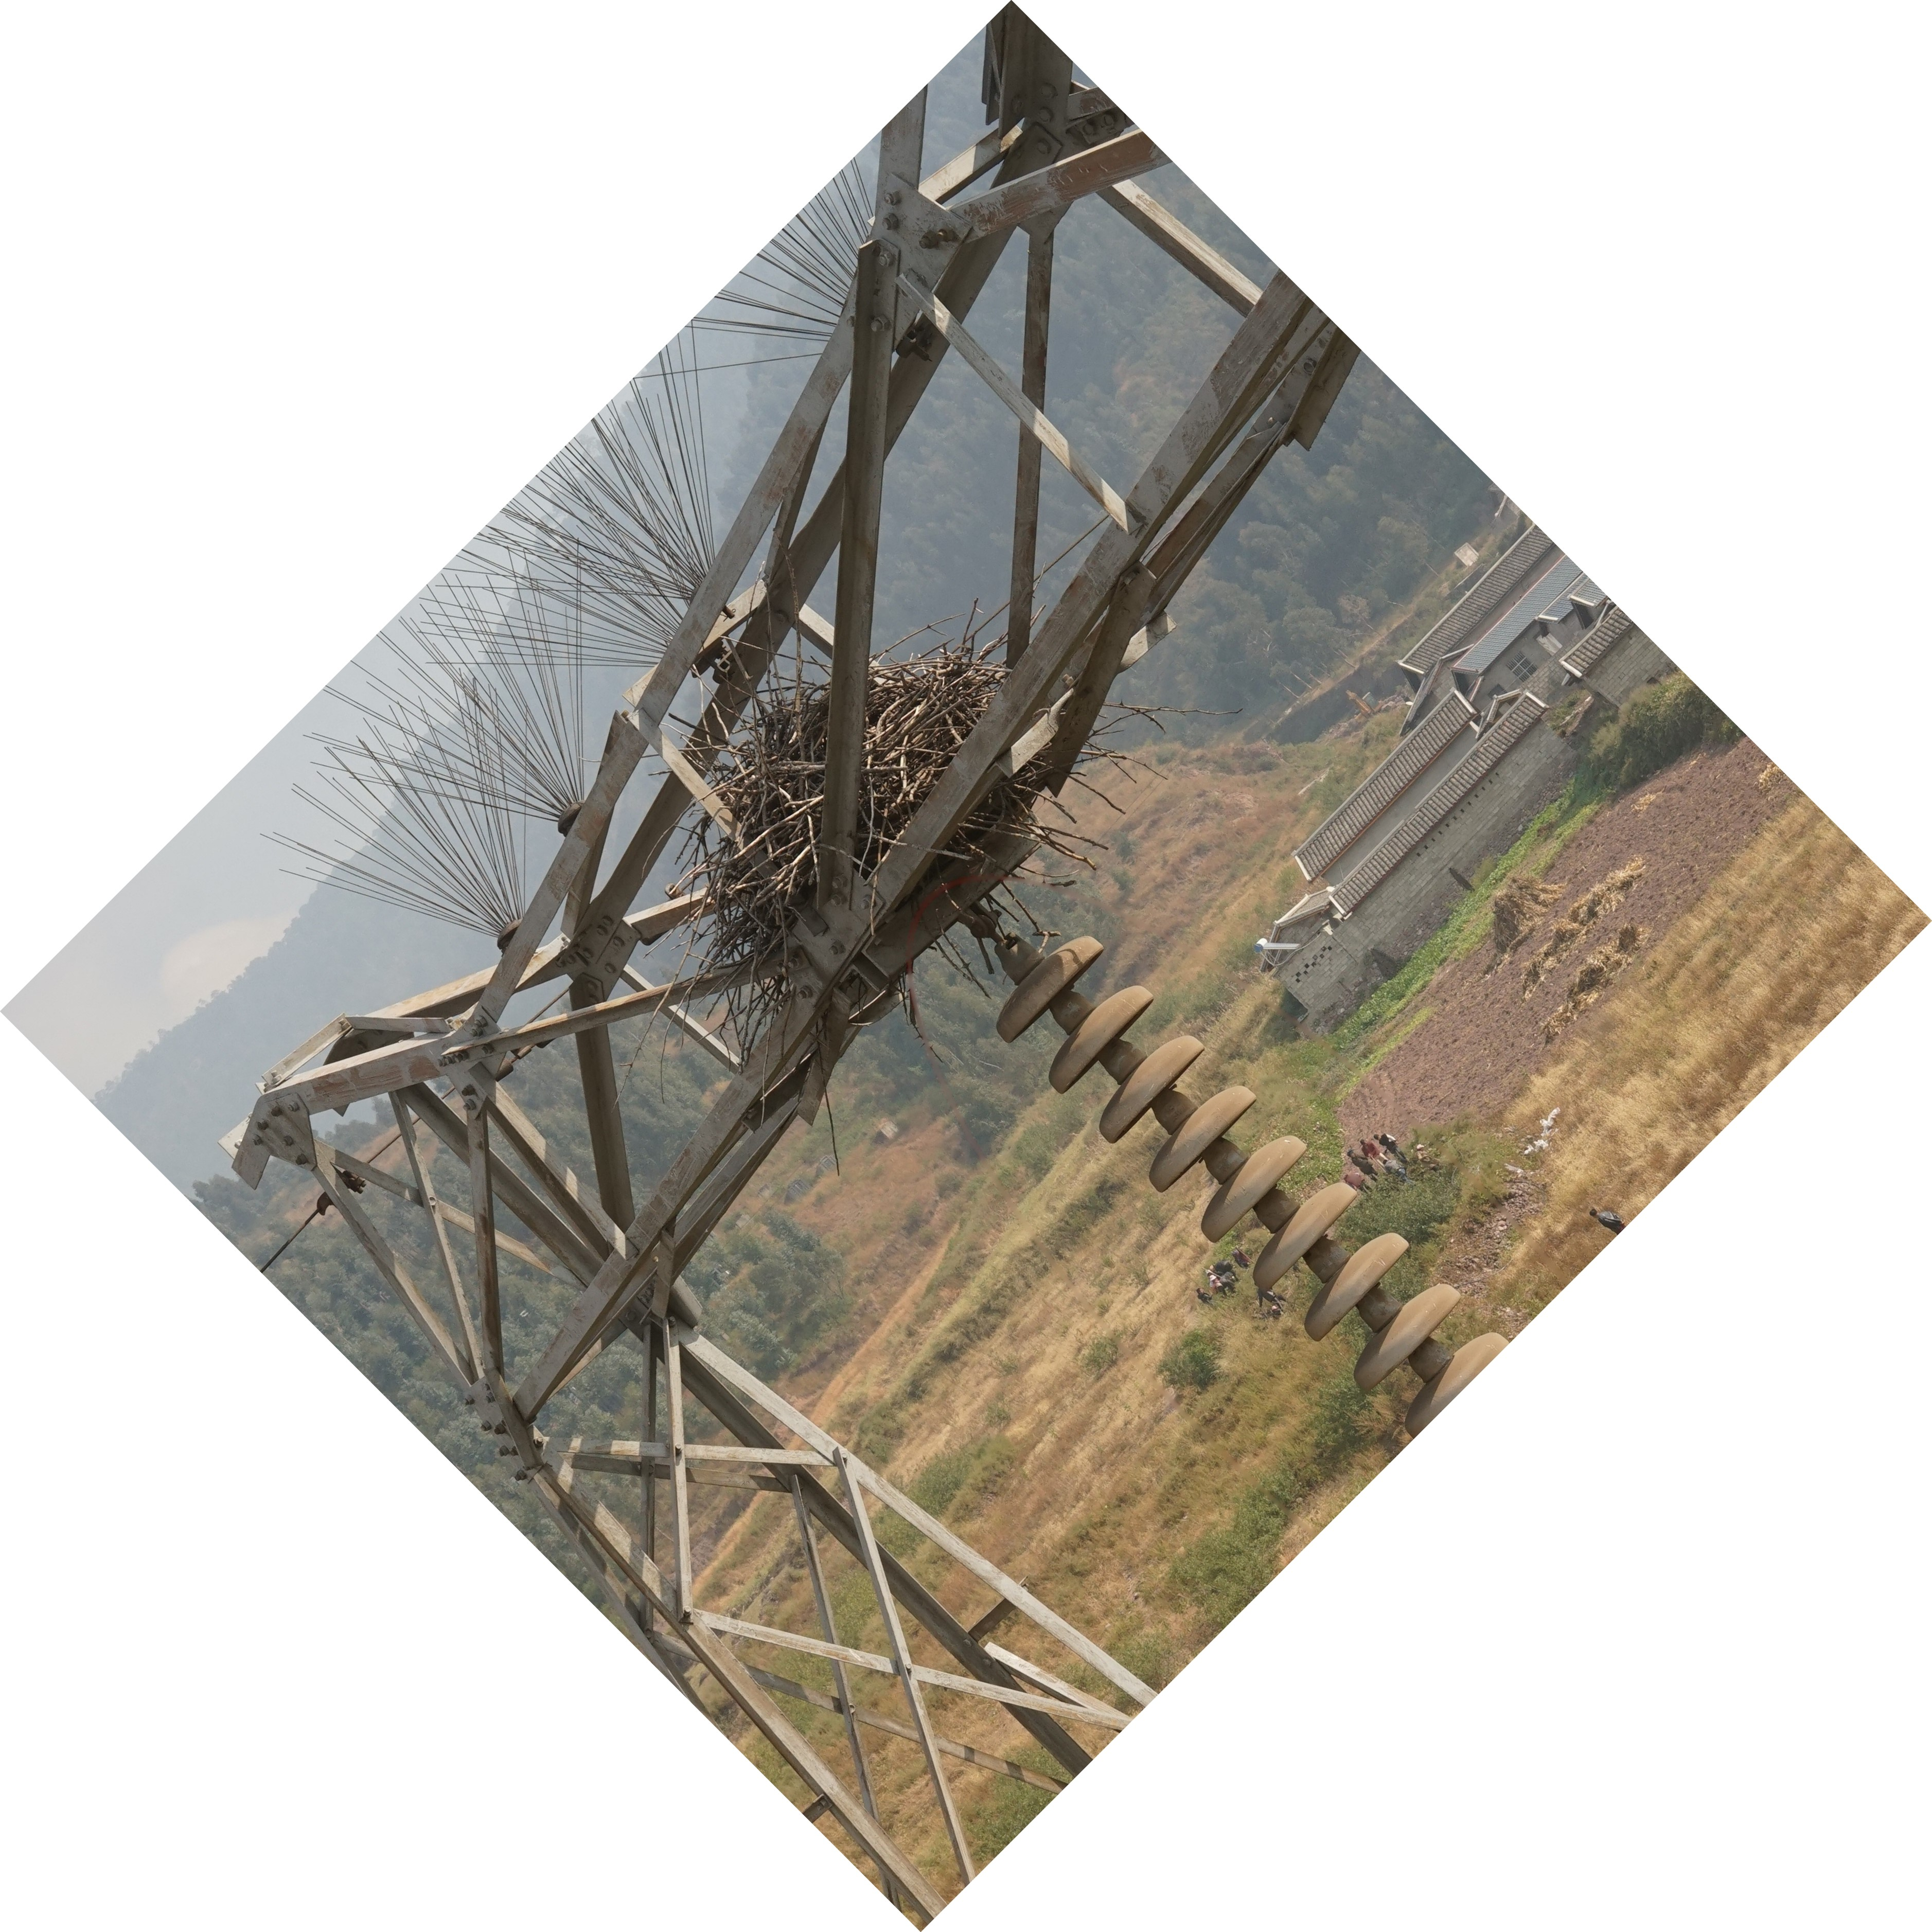niaowo: (628, 628, 1054, 1021)
